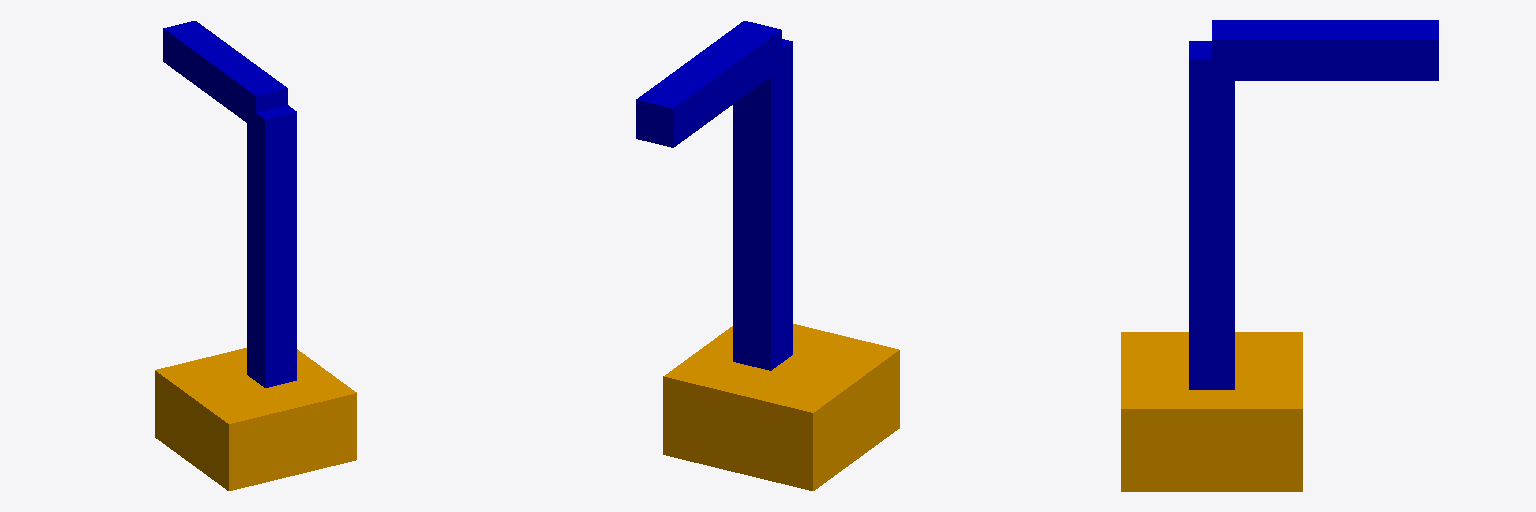
The robot description file, URDF, robot "myrobot":
<?xml version="1.0"?>

<robot name="myrobot">

    <link name="base_link">

        <inertial>
            <origin xyz="0 0 0.1" />
            <mass value="10000.0" />
            <inertia ixx="1.0" ixy="0.0" ixz="0.0"
            iyy="1.0" iyz="0.0" izz="1.0" />

        </inertial>
        <visual>        
            <origin xyz="0 0 0.1" />
            <geometry>
                <box size="0.4 0.4 0.2" />
            </geometry>
        </visual>

        <collision>
            <origin xyz="0 0 0.1" />
            <geometry>
             <box size="0.4 0.4 0.2" />
            </geometry>
        </collision>

    </link>

    <material name="blue">
        <color rgba="0 0 0.8 1" />
    </material>

    <link name="body_link">

        <inertial>
            <origin rpy="0 0 0" xyz="0 0 0.5" />
            <mass value="1.0" />
            <inertia ixx="1.0" ixy="0.0" ixz="0.0"
            iyy="0.0" iyz="0.0" izz="1.0" />

        </inertial>
        <visual>        
            <origin rpy="0 0 0" xyz="0 0 0.5" />
            <geometry>
                <box size="0.1 0.1 0.8" />
            </geometry>
            <material name="blue"/>
        </visual>

        <collision>
            <origin rpy="0 0 0" xyz="0 0 0.5" />
            <geometry>
             <box size="0.1 0.1 0.8" />
            </geometry>
        </collision>

    </link>

    <link name="head_link">

        <inertial>
            <origin rpy="0 0 0" xyz="0 0.25 0.8" />
            <mass value="1.0" />
            <inertia ixx="1.0" ixy="0.0" ixz="0.0"
            iyy="0.0" iyz="0.0" izz="1.0" />
        </inertial>

        <visual>        
            <origin rpy="0 0 0" xyz="0 0.25 0.8" />
            <geometry>
                <box size="0.1 0.5 0.1" />
            </geometry>
            <material name="blue"/>
        </visual>

        <collision>
            <origin rpy="0 0 0" xyz="0.1 0.25 0.8" />
            <geometry>
             <box size="0.1 0.5 0.1" />
            </geometry>
        </collision>

    </link>

    <joint name="base_to_body" type="revolute">
        <parent link="base_link" />
        <child link="body_link" />
        <dynamics damping="0.0" friction="0.00001" />
        <origin xyz="0.05 0 0.1" />
        <axis xyz="1 0 0" />

        <limit lower="-0.14" upper="0.14" effort="10.0" velocity="0.5" />
    </joint>

    <joint name="head_to_body" type="revolute">
        <parent link="body_link" />
        <child link="head_link" />
        <dynamics damping="0.0" friction="0.00001" />
        <origin xyz="0 0 0.1" />
        <axis xyz="0 0 1" />

        <limit lower="-1" upper="1" effort="10.0" velocity="0.5" />
    </joint>

</robot>

--- What the picture shows (computed from the rendered views, not written in the file) ---
The picture shows the robot from 3 angles, left to right: view 1: azimuth 30°, elevation 25°; view 2: azimuth 150°, elevation 25°; view 3: azimuth 270°, elevation 25°; orthographic projection.
Model myrobot with 3 links and 2 joints (2 revolute), rooted at base_link, posed all joints at 0.
Links seen in each view (by area): view 1: base_link, body_link, head_link; view 2: base_link, body_link, head_link; view 3: base_link, body_link, head_link.
Boxes of the visible links, bbox=[...] form: base_link: bbox=[155, 348, 356, 490]; body_link: bbox=[247, 105, 296, 387]; head_link: bbox=[163, 21, 287, 123]; base_link: bbox=[663, 324, 899, 490]; body_link: bbox=[733, 39, 792, 370]; head_link: bbox=[636, 21, 781, 147]; base_link: bbox=[1121, 332, 1302, 491]; body_link: bbox=[1189, 41, 1234, 389]; head_link: bbox=[1212, 20, 1438, 80].
Bounding box of the posed robot: 0.4 × 0.7 × 1.05 m (x, y, z).
Geometry: primitives only (box / cylinder / sphere), no mesh files.